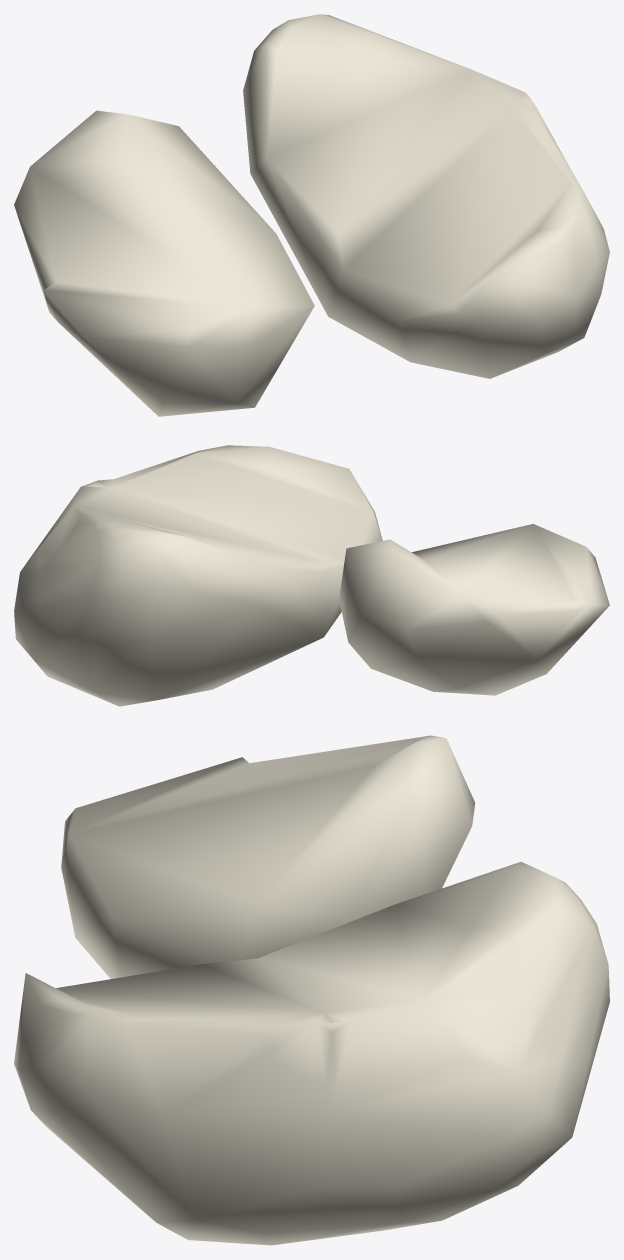
3 renders of one model, top to bottom at view 1: azimuth 30°, elevation 25°; view 2: azimuth 150°, elevation 25°; view 3: azimuth 270°, elevation 25°, orthographic. The views are drawn at different scales.
Visible parts, largest first — view 1: ZA_a5bd69eab4114407; view 2: ZA_a5bd69eab4114407; view 3: ZA_a5bd69eab4114407.
Boxes of the visible parts, <box> form: ZA_a5bd69eab4114407: <box>14,14,609,416</box>; ZA_a5bd69eab4114407: <box>14,445,609,706</box>; ZA_a5bd69eab4114407: <box>14,735,609,1245</box>.
Size of the model in its own units: 0.0174 by 0.00802 by 0.0136.
